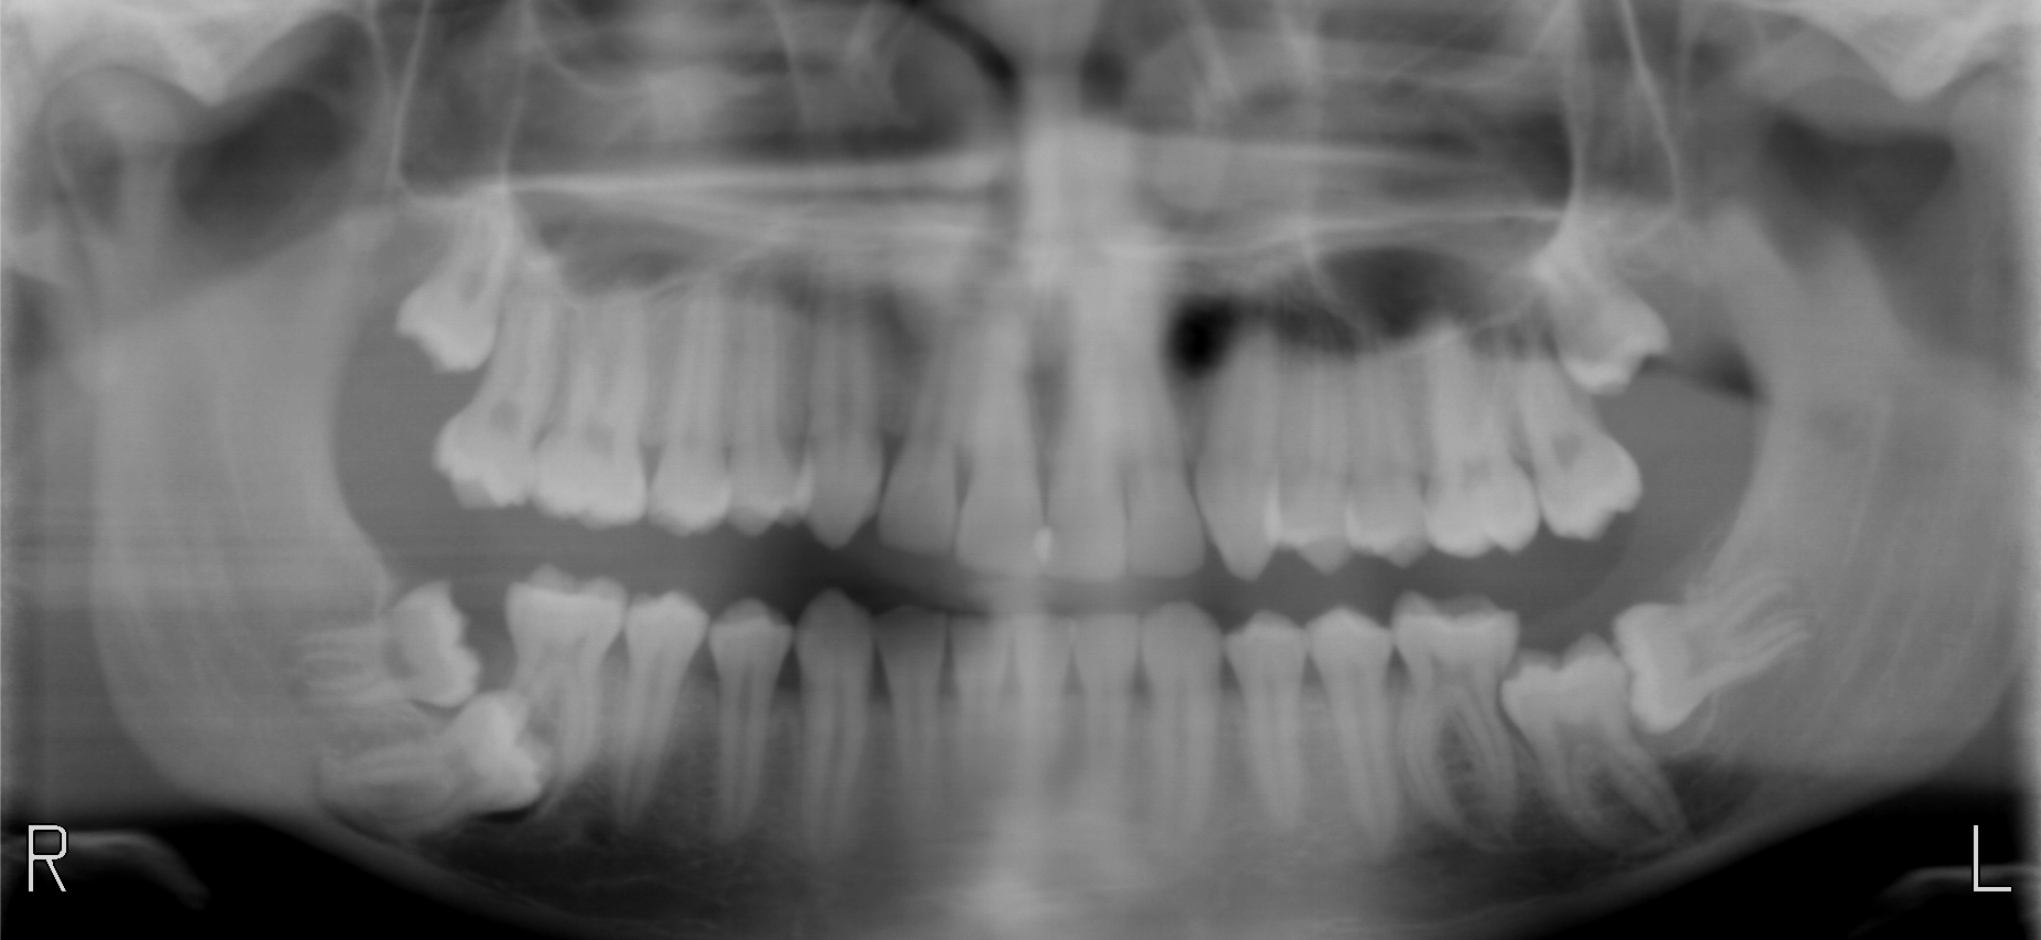cavity: (1431, 471, 1440, 504)
